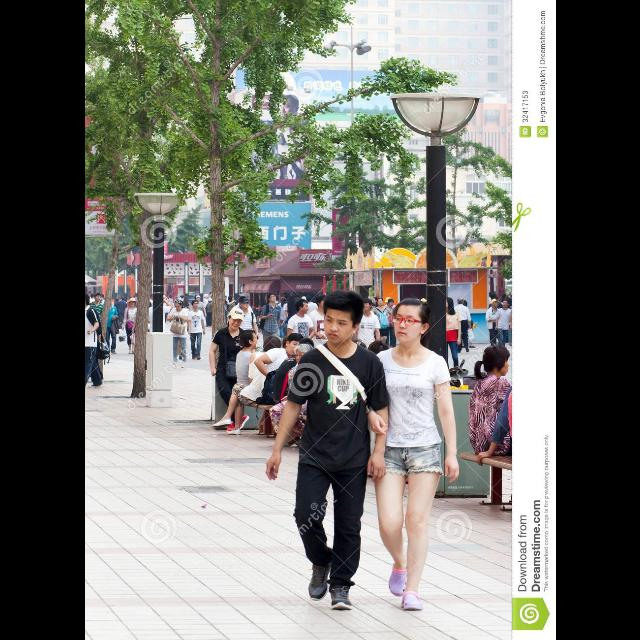head: (322, 289, 364, 345), (392, 298, 430, 344), (482, 345, 510, 377), (285, 332, 305, 356), (295, 344, 313, 366), (239, 330, 257, 350), (227, 310, 243, 330), (298, 338, 314, 357), (266, 336, 280, 352), (296, 300, 308, 314), (316, 295, 328, 309), (362, 298, 372, 312), (238, 296, 248, 308), (442, 298, 452, 310), (154, 295, 164, 305), (174, 300, 182, 312), (128, 298, 136, 308), (502, 300, 510, 310), (268, 294, 276, 302), (376, 299, 384, 307), (94, 292, 100, 302), (94, 293, 100, 303), (106, 300, 112, 308), (192, 300, 198, 308), (492, 300, 498, 308), (456, 298, 464, 304), (388, 299, 394, 307), (182, 297, 188, 303), (280, 298, 286, 304), (195, 296, 199, 302), (305, 298, 311, 302)
person: (262, 286, 398, 616), (354, 294, 456, 614), (210, 335, 286, 437), (252, 332, 318, 440), (202, 306, 256, 436), (268, 342, 332, 448), (234, 329, 292, 438), (270, 337, 326, 437), (282, 298, 316, 389), (304, 294, 336, 376), (352, 297, 382, 383), (229, 296, 259, 372), (436, 296, 462, 378), (143, 294, 173, 364), (258, 293, 282, 373), (85, 292, 104, 390), (227, 295, 256, 359), (165, 300, 191, 370), (185, 298, 207, 362), (368, 298, 392, 354), (119, 296, 141, 356), (100, 297, 120, 357), (452, 296, 472, 354), (86, 291, 105, 351), (493, 299, 513, 353), (483, 298, 502, 350), (300, 294, 320, 338), (381, 298, 397, 349), (190, 294, 208, 334), (178, 295, 192, 333), (276, 296, 288, 338)
